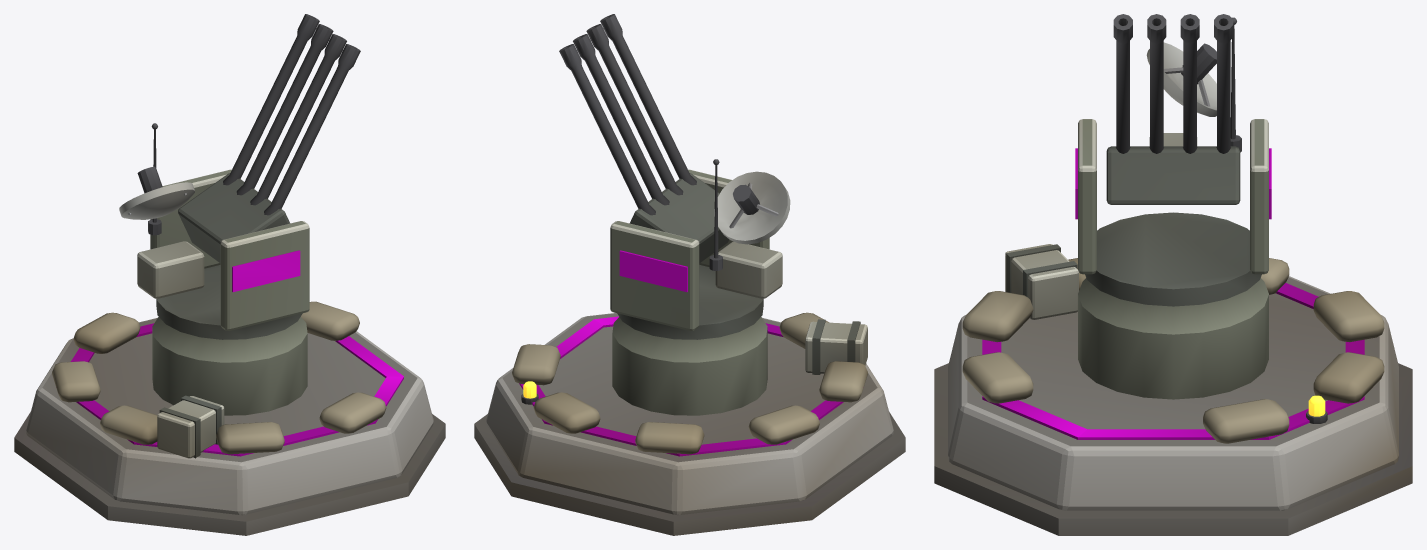
File: flak_cannon.glb
3 renders of one model, left to right at view 1: azimuth 30°, elevation 25°; view 2: azimuth 150°, elevation 25°; view 3: azimuth 270°, elevation 25°, orthographic. The views are drawn at different scales.
Parts seen in each view (by area): view 1: Body, Turret, Barrel; view 2: Body, Turret, Barrel; view 3: Body, Turret, Barrel.
Part boxes in pixels (x1=…): Body: x1=14, y1=301, x2=445, y2=535; Turret: x1=119, y1=123, x2=309, y2=339; Barrel: x1=223, y1=14, x2=360, y2=215; Body: x1=474, y1=312, x2=905, y2=535; Turret: x1=610, y1=159, x2=790, y2=339; Barrel: x1=559, y1=14, x2=696, y2=215; Body: x1=934, y1=244, x2=1412, y2=535; Turret: x1=1075, y1=17, x2=1271, y2=306; Barrel: x1=1113, y1=14, x2=1233, y2=153.
Size of the model in its own units: 2 by 2.21 by 2.
1 material, 1 textured.
